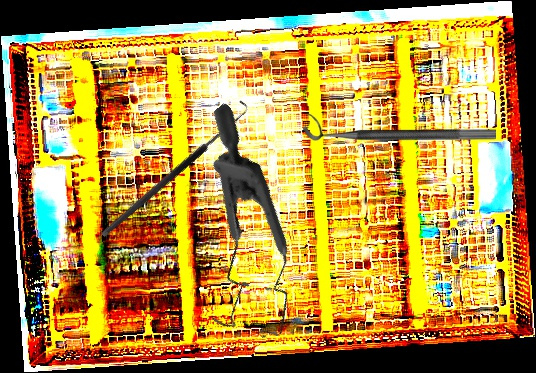Fixation Ring: (303, 113, 496, 141)
Hook Surgical: (94, 98, 252, 239)
Speculum: (110, 102, 363, 361)
